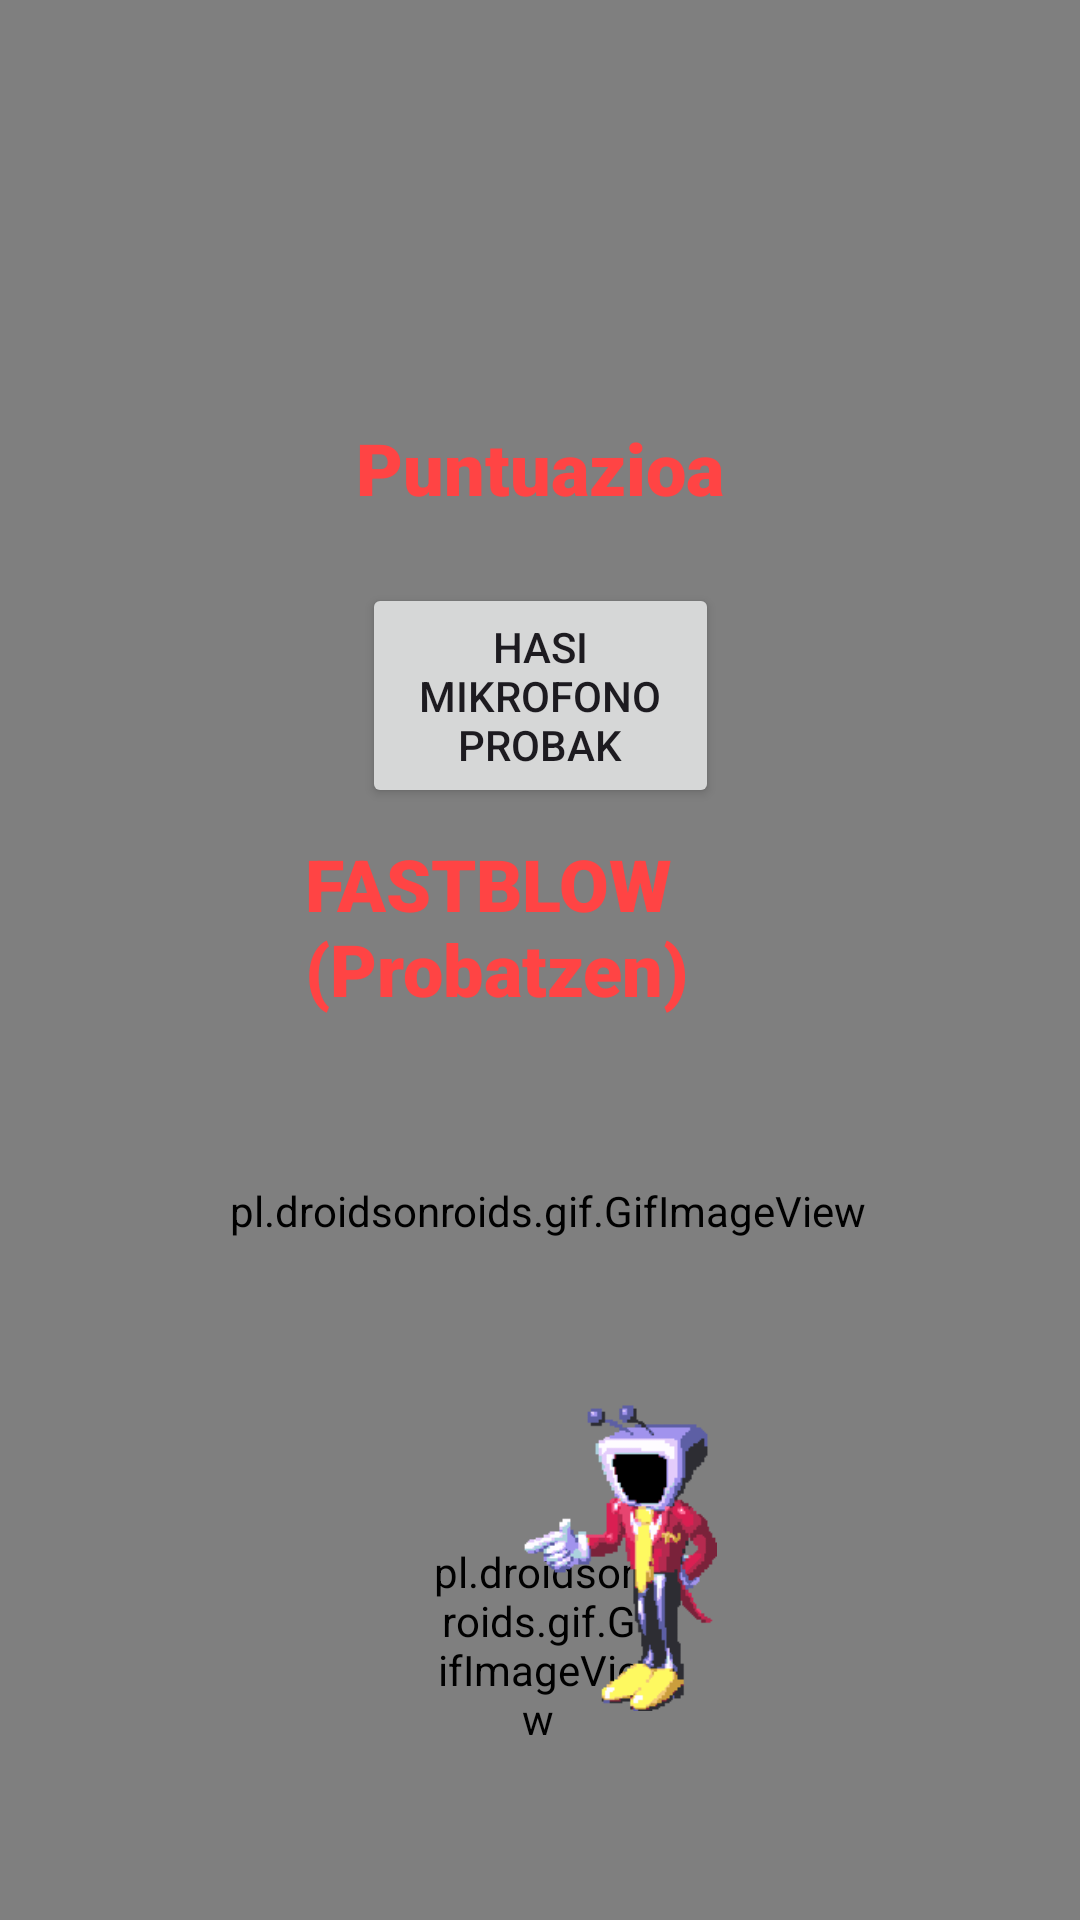

Named icons in this screenshot (1080px×1920px) and their centers, [x,y]:
point: [616,1558]
